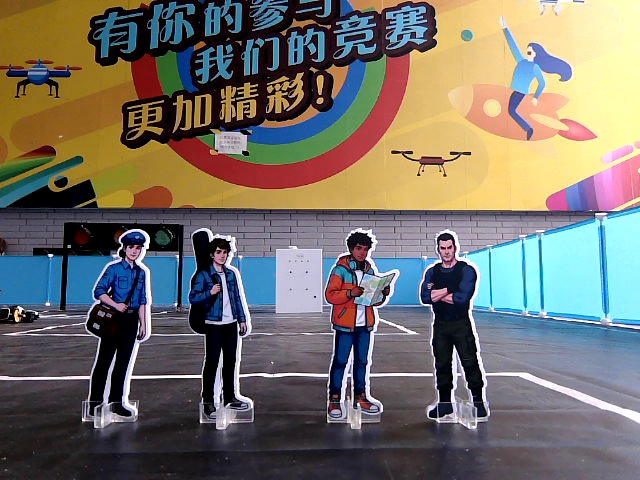community_person: (182, 223, 269, 434), (78, 219, 161, 433), (320, 225, 401, 434)
outsider: (412, 224, 499, 434)
